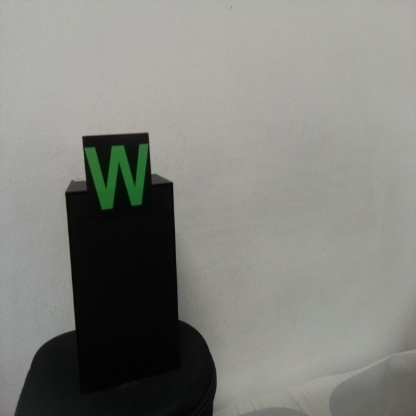id_12: (82, 136, 154, 225)
